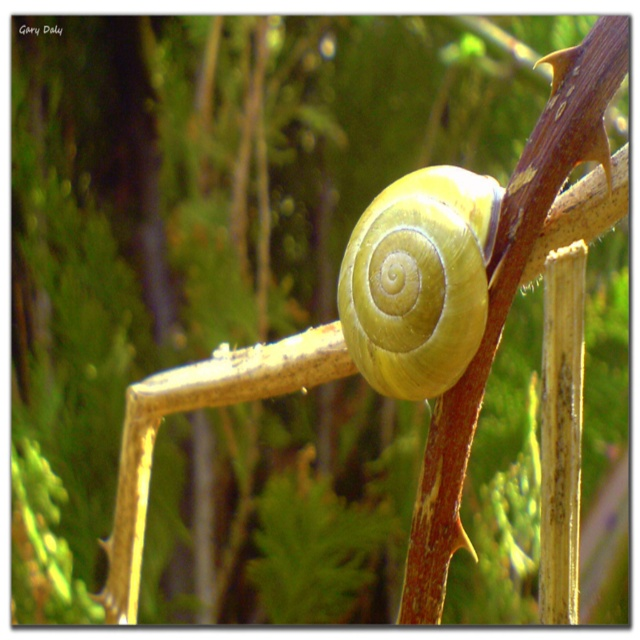Snail: (339, 162, 509, 402)
